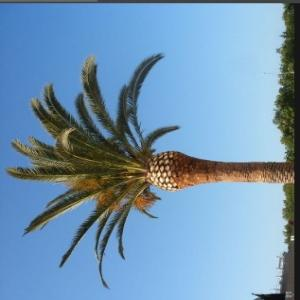palm tree: (5, 50, 294, 288)
